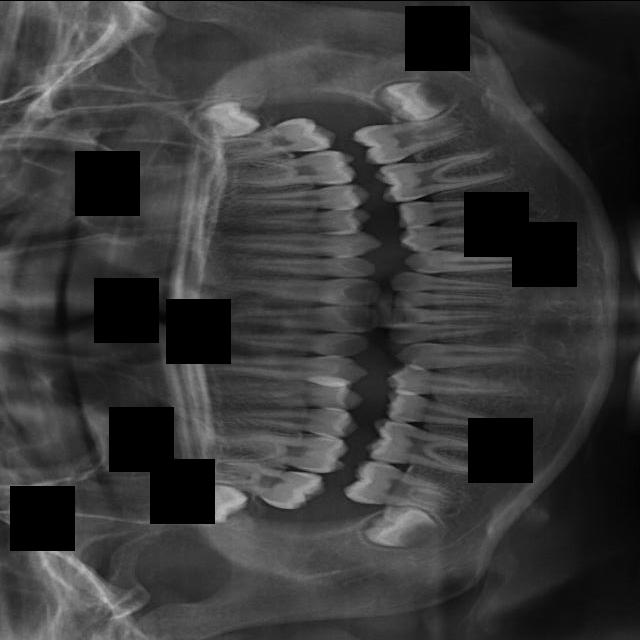3M ESPE Implant: (172, 479, 252, 526)
AGS Medikal Implant: (347, 109, 477, 169)
AMerOss Implant: (372, 142, 513, 207)
Amalgam filling: (191, 456, 329, 514)
Anthogyr Implant: (393, 184, 527, 230)
Bicon Implant: (397, 212, 530, 254)
BioHorizons Implant: (402, 243, 549, 275)
BioLife Implant: (389, 271, 512, 291)
Biomet 3i Implant: (391, 290, 507, 307)
Blue Sky Bio Implant: (388, 299, 509, 325)
Camlog Implant: (386, 316, 517, 345)
Caries: (235, 256, 377, 277)
Composite filling: (393, 341, 535, 372)
Cowellmedi Implant: (384, 364, 525, 407)
Crown: (382, 390, 524, 437)
DENTSPLY Implant: (202, 418, 351, 477)
Dentatus Implant: (362, 413, 505, 484)
Dentis Implant: (340, 456, 469, 522)
Dentium Implant: (360, 502, 443, 552)
Euroteknika Implant: (208, 401, 361, 438)
Filling: (198, 380, 363, 410)
Frontier Implant: (187, 352, 370, 383)
Hiossen Implant: (203, 230, 382, 256)
Implant: (206, 303, 381, 333)
Implant Direct: (219, 328, 370, 356)
Keystone Dental Implant: (214, 275, 383, 305)
MIS Implant: (251, 207, 373, 231)
Mandible: (227, 183, 374, 215)
Maxilla: (221, 148, 357, 192)
Megagen Implant: (210, 112, 339, 164)
Neodent Implant: (183, 93, 265, 145)
Neoss Implant: (378, 81, 460, 121)
